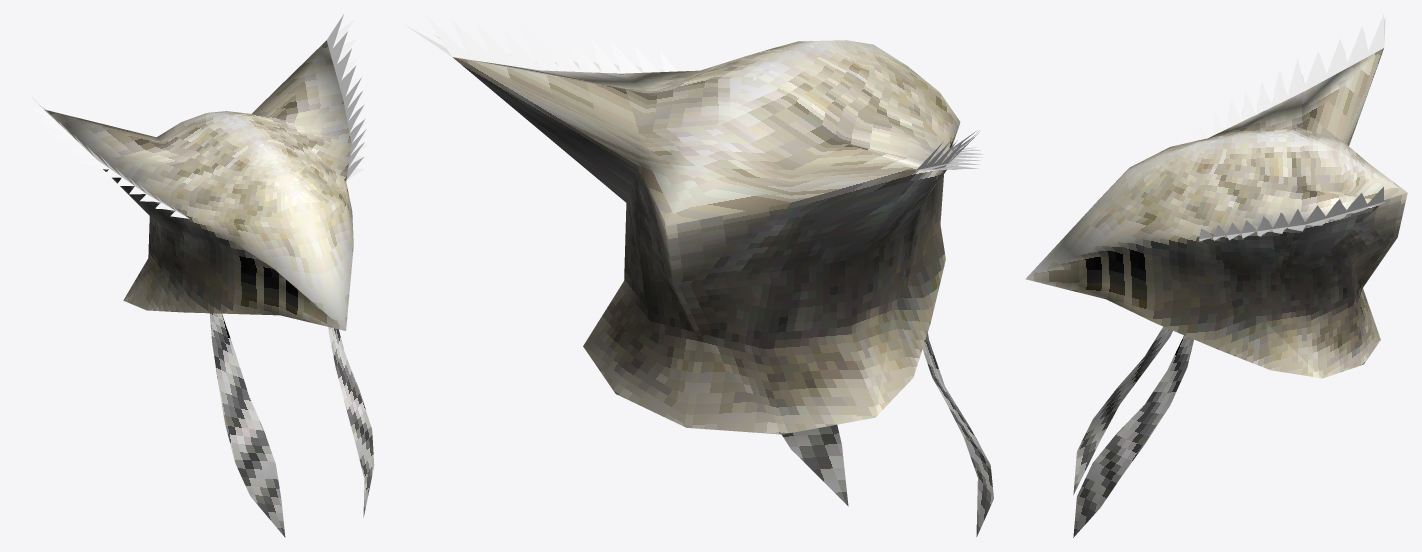
The model's file is f_helmet304.obj.
3 views of the same model, side by side, from view 1: azimuth 30°, elevation 25°; view 2: azimuth 150°, elevation 25°; view 3: azimuth 270°, elevation 25° (orthographic). The views are drawn at different scales.
Parts seen in each view (by area): view 1: mesh01, mesh02; view 2: mesh01, mesh02; view 3: mesh01, mesh02.
Boxes of the visible parts, x1,y1,x2,y2 form: mesh01: (15, 14, 368, 330); mesh02: (209, 313, 374, 537); mesh01: (405, 14, 983, 434); mesh02: (782, 333, 993, 536); mesh01: (1025, 14, 1407, 378); mesh02: (1073, 326, 1193, 537).
Bounding box in the file's own units: 46.09 × 48.37 × 40.27.
Materials: 3 (3 with a texture image).
